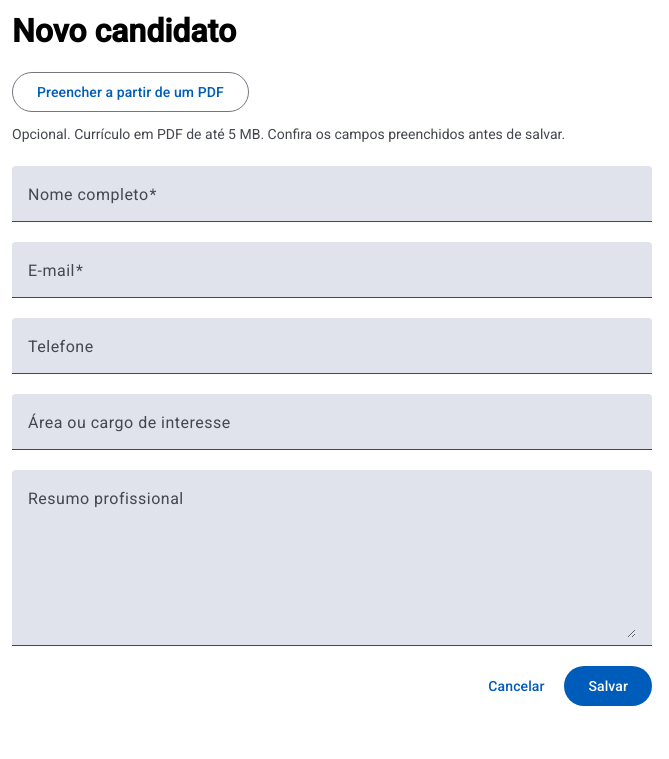
CadastroCandidatoComponent › se o salvamento falhar, libera o botão para nova tentativa e avisa
This screenshot has width=669, height=759.
Type "Maria da Silva" into the field labelled "Nome completo" at (332,202), box [28,190,636,214]
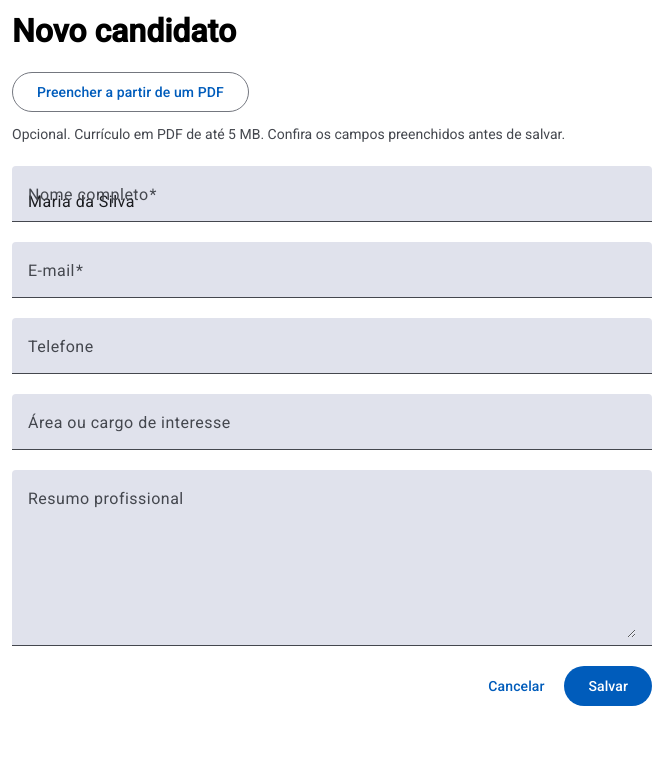
Type "maria.silva@exemplo.com" into the field labelled "E-mail" at (332,278), box [28,266,636,290]
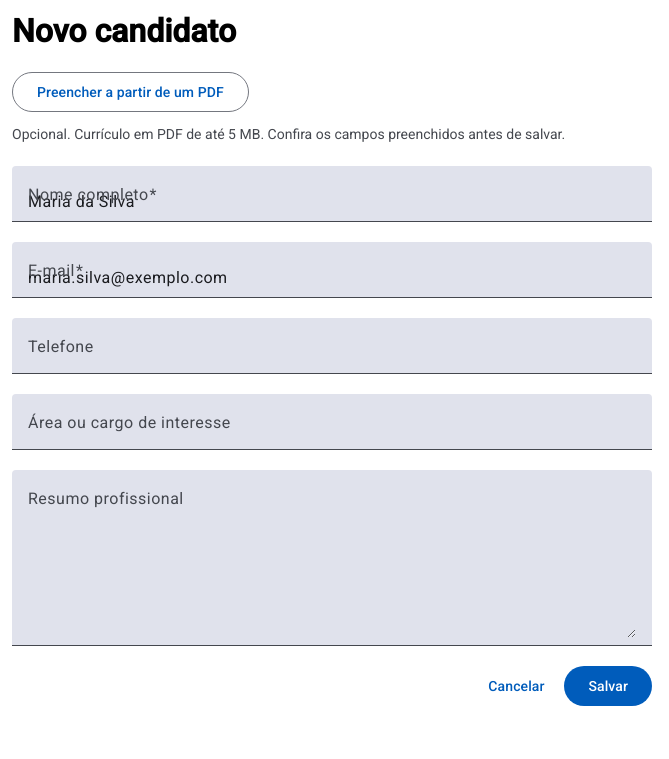
Submit the form
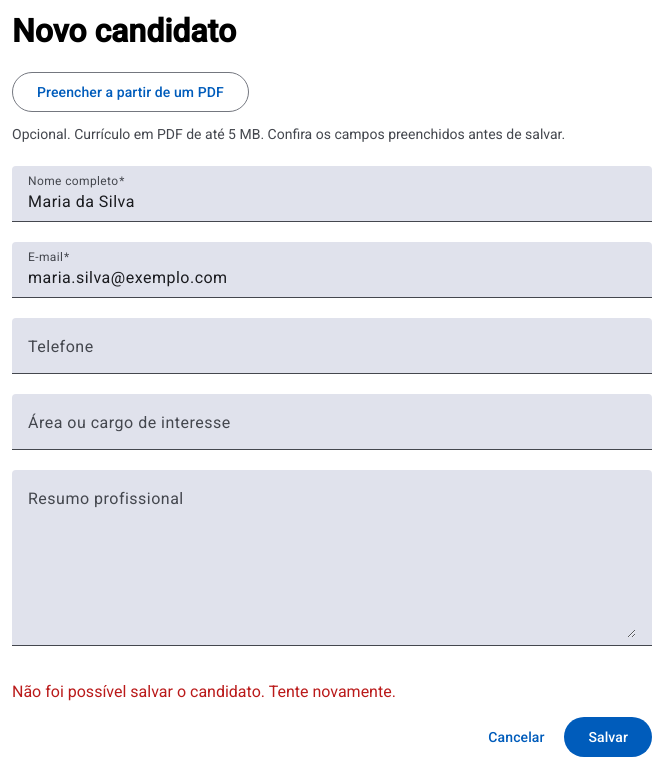
Expected: the submit button is enabled, [564,717,652,757]
Expected: the text "Não foi possível salvar" is shown, [12,682,396,701]
